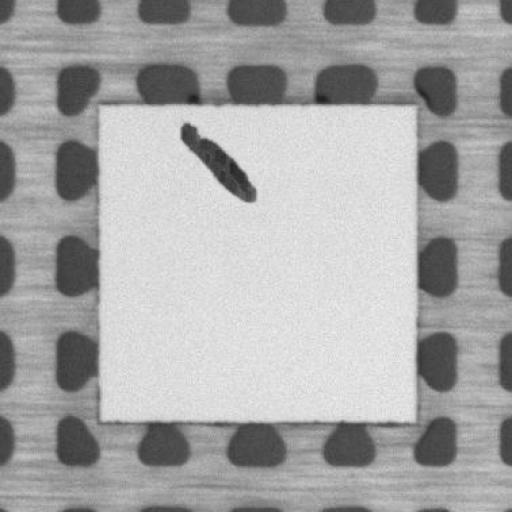DIE_INK: (177, 120, 263, 207)
